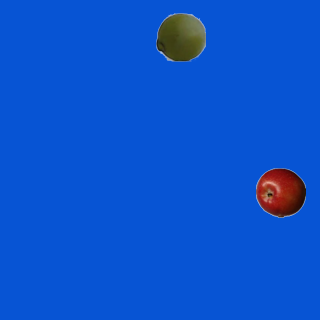Apple Braeburn: (255, 167, 305, 217)
Grape White 4: (155, 11, 205, 61)
